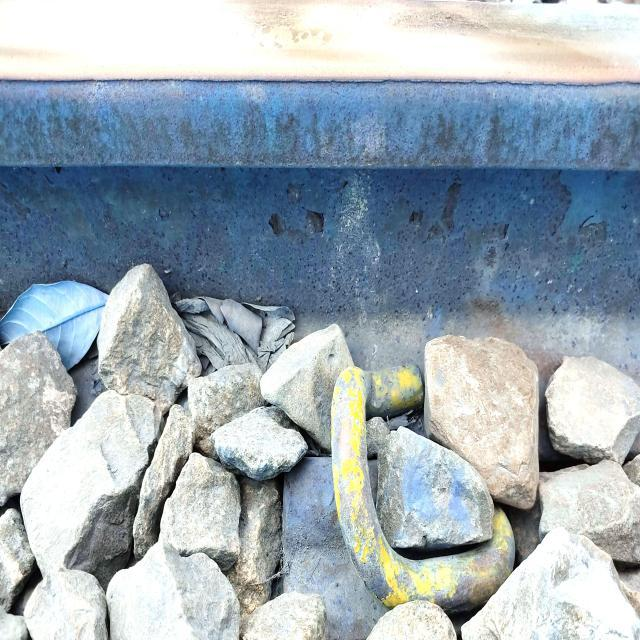Good Fasteners: (283, 365, 515, 638)
